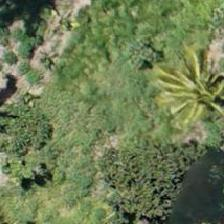coconut_tree: (155, 43, 223, 133)
